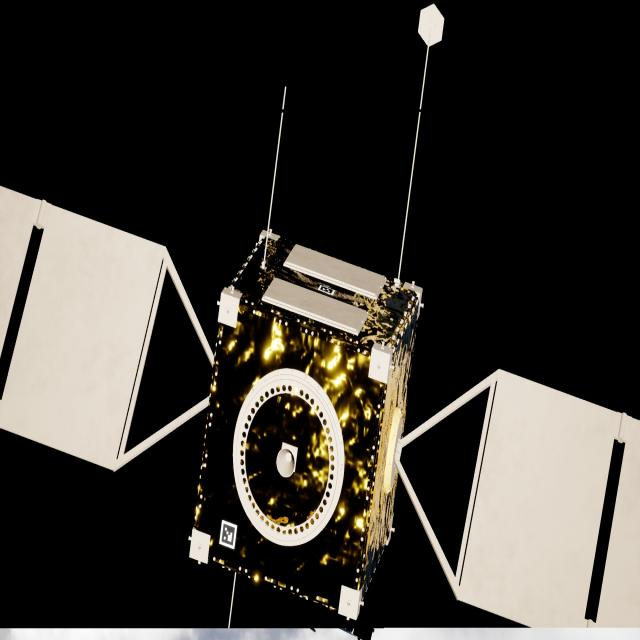medium_debris: (0, 188, 631, 630)
